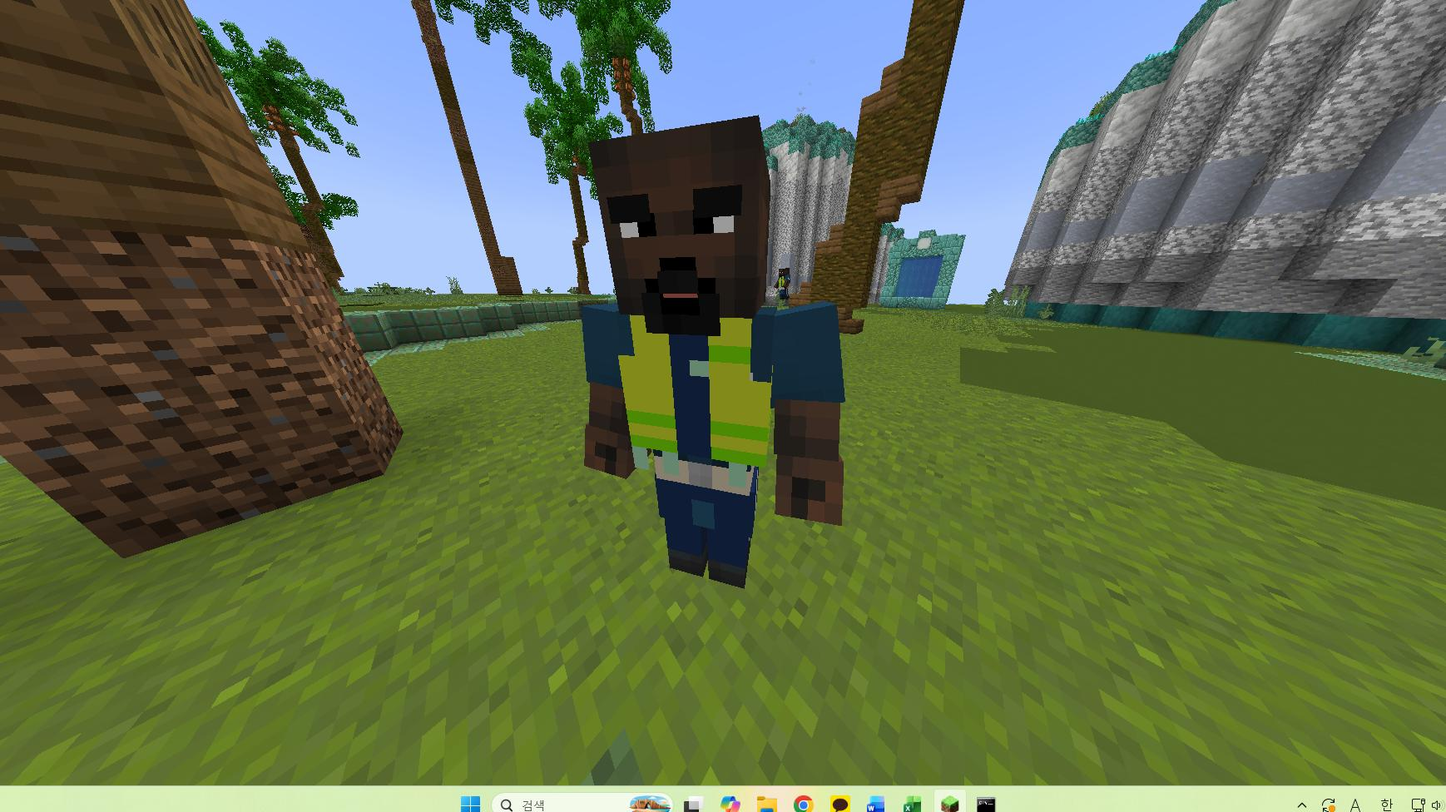Guardian: (579, 117, 844, 587)
